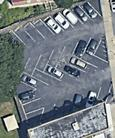parkingspot: (7, 1, 104, 47), (20, 51, 110, 91), (37, 82, 113, 128), (22, 36, 103, 78), (17, 88, 46, 116)
